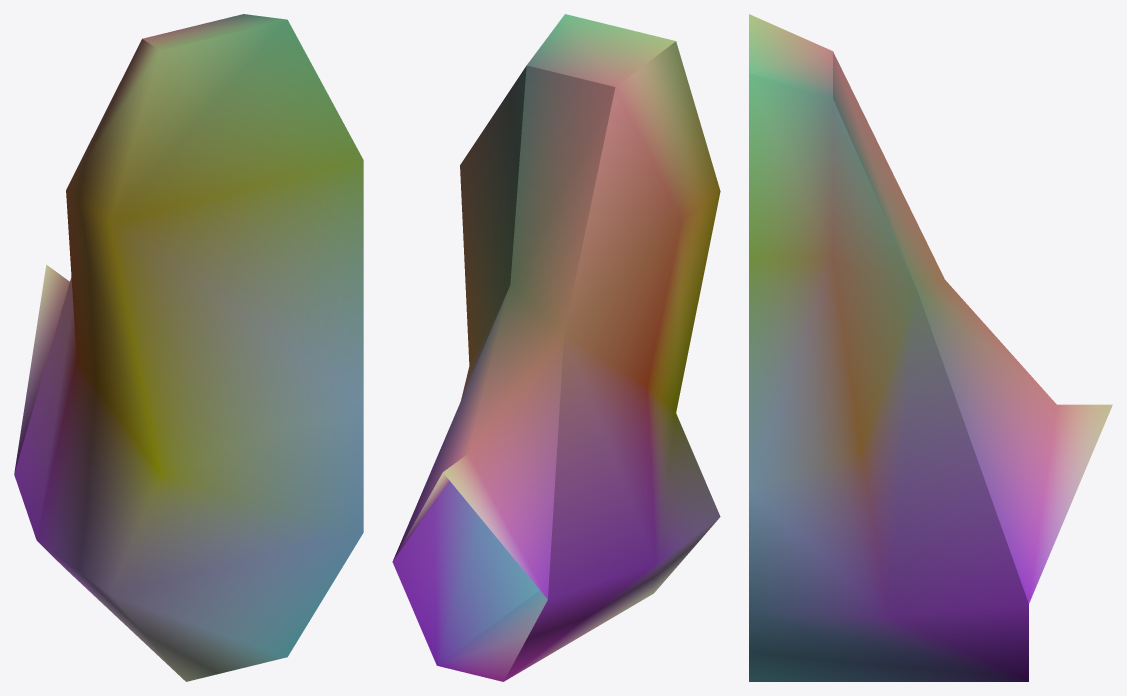
3 renders of one model, left to right at view 1: azimuth 30°, elevation 25°; view 2: azimuth 150°, elevation 25°; view 3: azimuth 270°, elevation 25°, orthographic. The views are drawn at different scales.
Parts seen in each view (by area): view 1: part; view 2: part; view 3: part.
Part boxes in pixels (bbox=[...]): part: bbox=[14, 14, 363, 681]; part: bbox=[392, 14, 720, 681]; part: bbox=[749, 14, 1112, 681].
Size of the model in its own units: 10 by 24 by 13.
